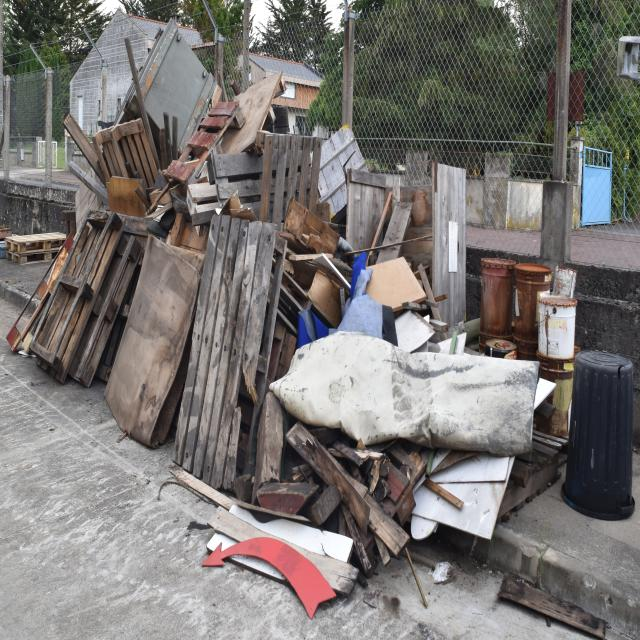entulho: (101, 217, 210, 456), (186, 212, 281, 482), (290, 430, 428, 568), (205, 496, 355, 616), (270, 326, 412, 451), (16, 210, 116, 380), (408, 354, 542, 460), (136, 31, 214, 174), (569, 359, 637, 523), (185, 70, 295, 168), (300, 117, 372, 215), (432, 157, 467, 344), (94, 112, 166, 198), (281, 250, 358, 330), (266, 133, 322, 223), (342, 160, 390, 260), (212, 149, 270, 227), (361, 251, 435, 312), (369, 195, 419, 275), (537, 287, 578, 383), (516, 258, 548, 347), (482, 256, 511, 339), (181, 181, 228, 226), (4, 230, 70, 262), (552, 263, 578, 301)
